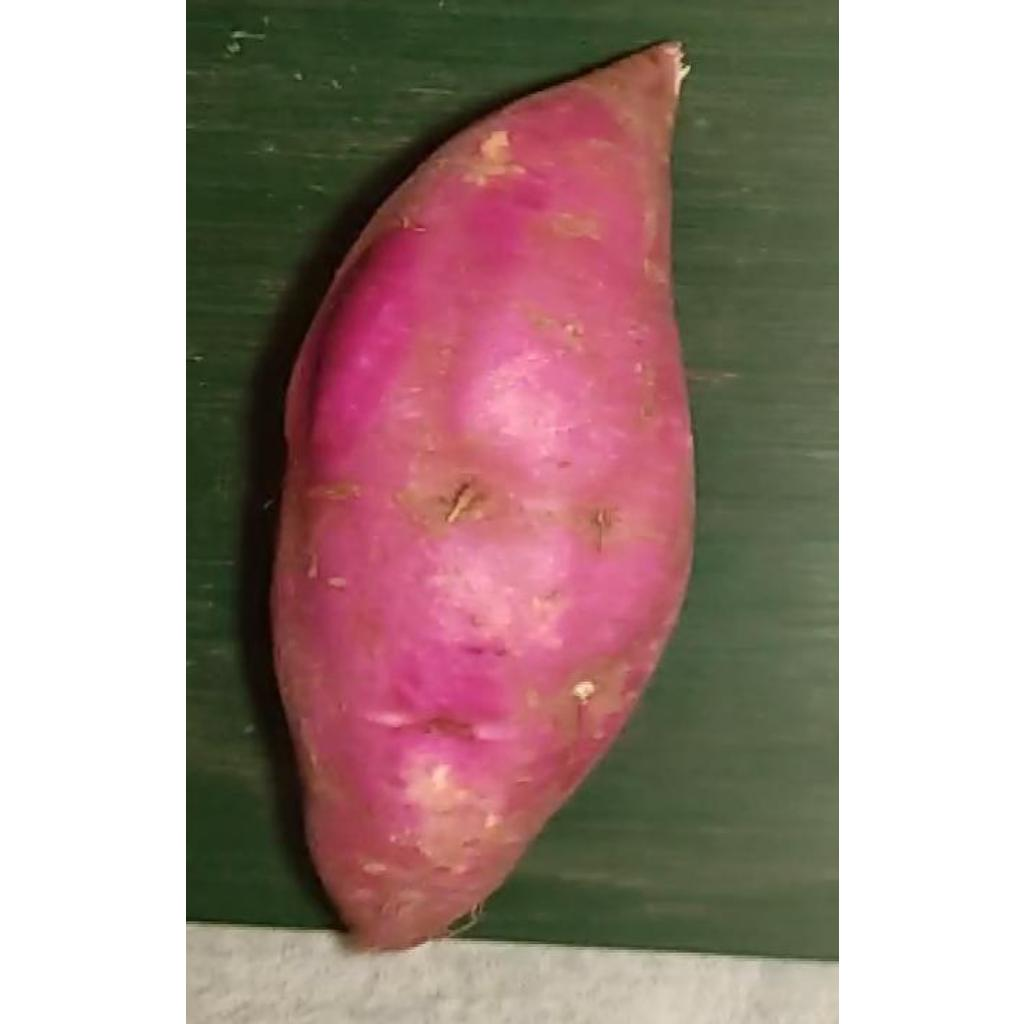Sweet Potato: (268, 41, 696, 957)
